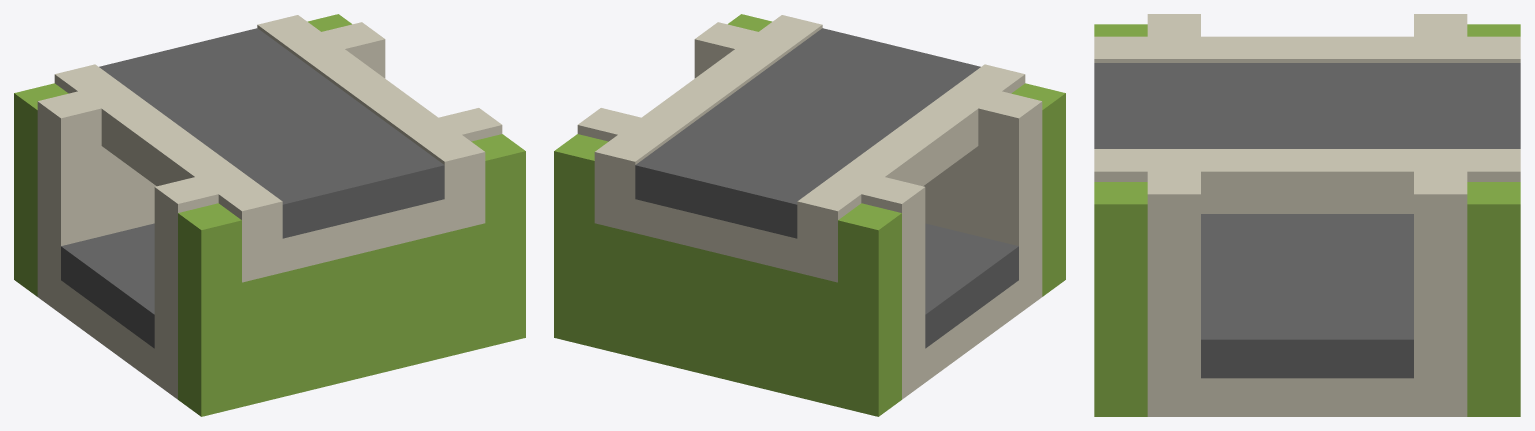
File: tile212.dae
3 renders of one model, left to right at view 1: azimuth 30°, elevation 25°; view 2: azimuth 150°, elevation 25°; view 3: azimuth 270°, elevation 25°, orthographic. The views are drawn at different scales.
Parts seen in each view (by area): view 1: tile212; view 2: tile212; view 3: tile212.
Part boxes in pixels (x1=…): tile212: x1=14, y1=14, x2=525, y2=416; tile212: x1=554, y1=14, x2=1065, y2=416; tile212: x1=1094, y1=14, x2=1520, y2=416.
Bounding box in the file's own units: 1 × 0.5767 × 1.
